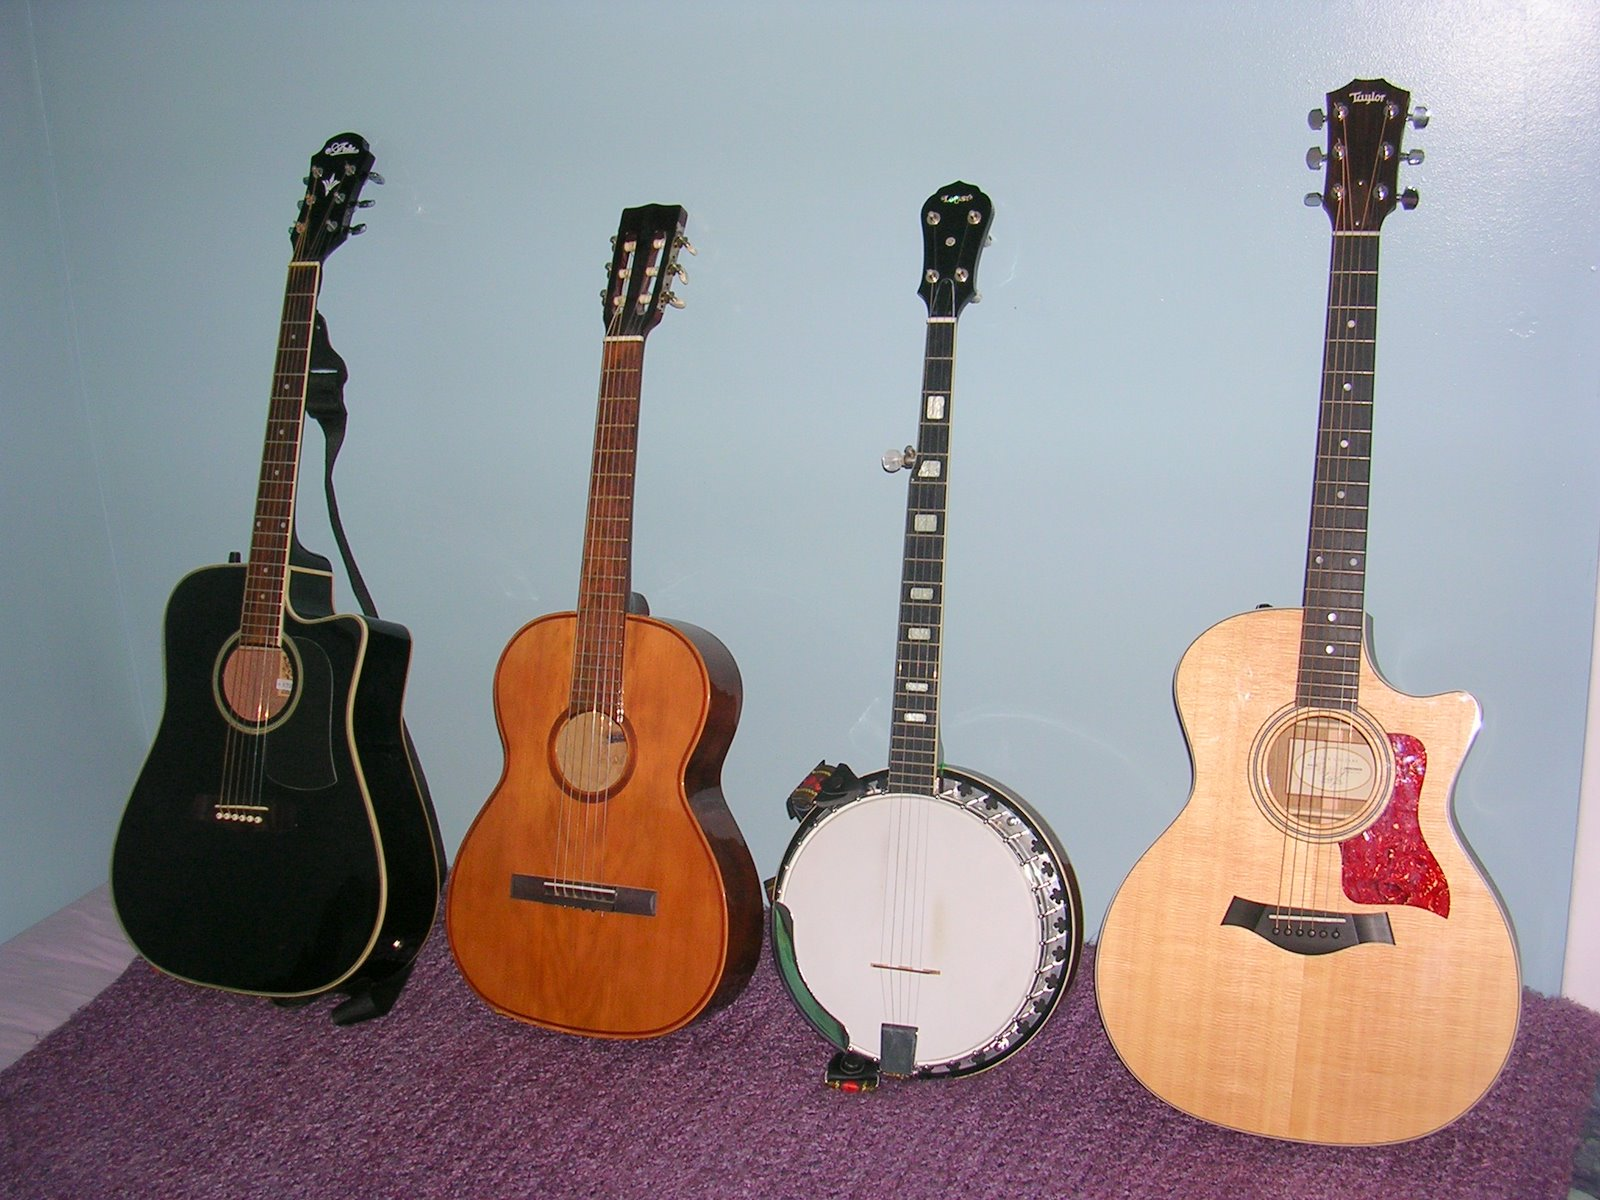guitar: (1085, 76, 1528, 1157), (111, 134, 443, 1000), (446, 195, 769, 1053)
